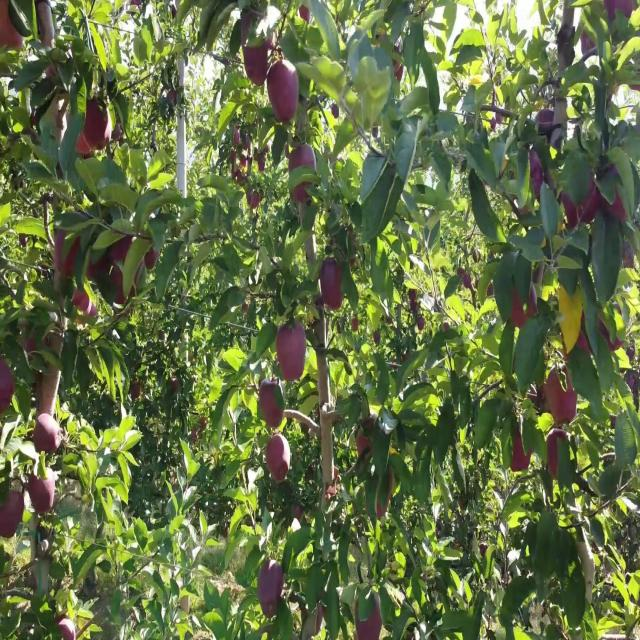apple: (240, 14, 275, 87), (264, 63, 300, 121), (544, 369, 579, 427), (288, 142, 316, 206), (240, 14, 275, 62), (244, 35, 275, 87), (84, 99, 112, 149), (276, 327, 308, 368), (260, 561, 285, 610), (600, 305, 625, 354), (320, 263, 344, 313), (0, 0, 24, 48), (604, 170, 627, 220), (28, 476, 56, 517), (260, 383, 284, 430), (601, 170, 624, 219), (512, 284, 537, 329), (56, 234, 81, 279), (268, 433, 290, 484), (232, 127, 251, 185), (580, 177, 602, 226), (4, 490, 25, 540), (0, 497, 24, 540), (512, 426, 532, 475), (548, 433, 568, 482), (356, 604, 384, 638), (36, 419, 60, 455), (72, 291, 97, 324), (268, 447, 290, 484), (240, 14, 265, 46), (112, 234, 139, 263), (560, 191, 579, 229), (0, 504, 19, 540), (112, 270, 131, 306), (0, 362, 16, 404), (604, 0, 634, 20), (608, 191, 627, 222), (56, 99, 70, 140), (88, 255, 108, 283), (280, 362, 305, 384), (8, 490, 25, 521), (20, 327, 37, 356), (356, 433, 374, 460), (76, 135, 94, 162), (376, 490, 392, 519), (4, 376, 16, 411), (144, 248, 160, 272), (60, 618, 77, 639), (248, 191, 262, 212), (460, 270, 473, 292), (292, 504, 303, 523), (300, 7, 311, 25), (408, 291, 417, 311), (132, 383, 142, 400), (416, 319, 425, 334), (172, 376, 180, 391), (4, 398, 12, 412)
